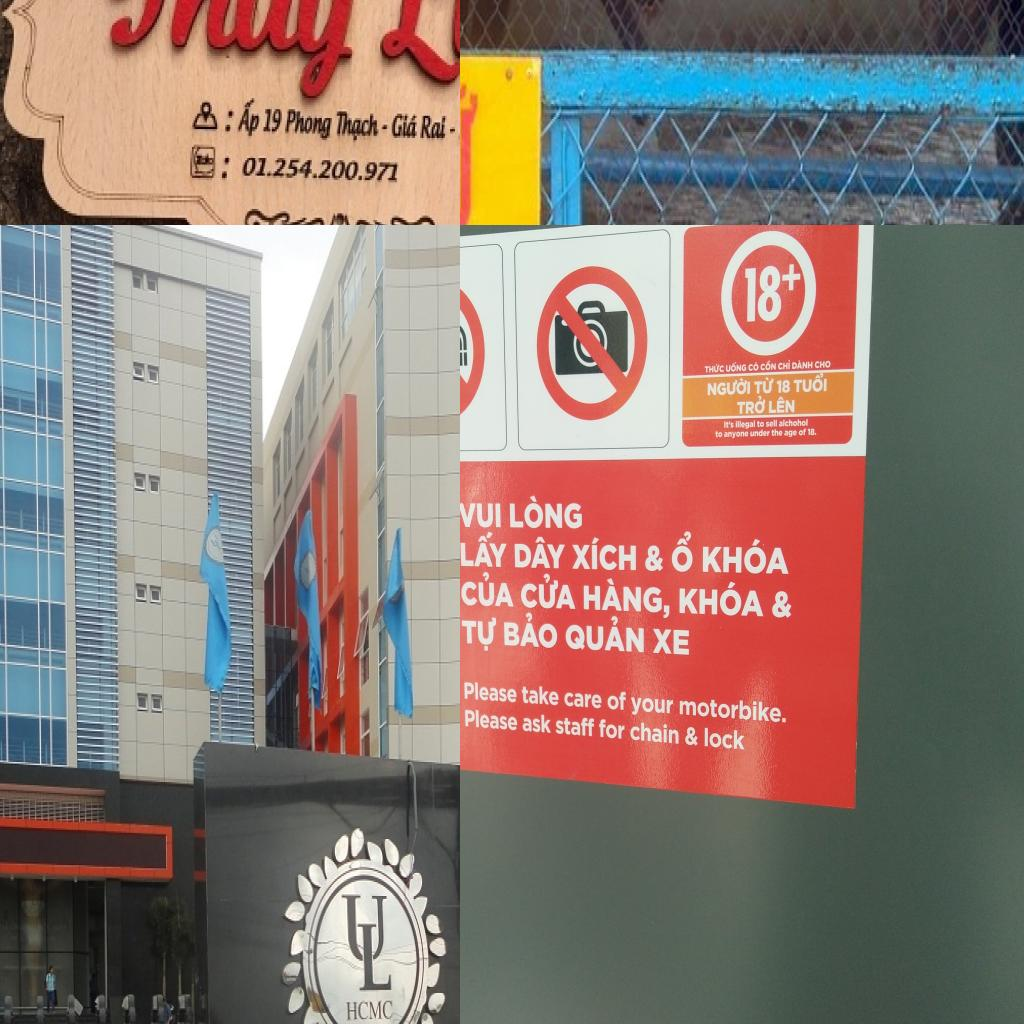text: (101, 0, 383, 104), (375, 0, 460, 111), (340, 893, 396, 994), (736, 260, 802, 332), (577, 575, 672, 622), (700, 535, 792, 579), (677, 580, 768, 621), (564, 613, 648, 655), (460, 73, 483, 225), (675, 696, 789, 726), (506, 494, 584, 532), (568, 534, 640, 573), (516, 574, 580, 613), (501, 612, 560, 654), (511, 532, 569, 574), (460, 571, 517, 611), (460, 529, 508, 572), (462, 676, 520, 707), (284, 107, 334, 142), (460, 611, 498, 656), (463, 706, 519, 736), (649, 623, 691, 660), (629, 719, 681, 747), (460, 498, 503, 531), (334, 112, 380, 142), (346, 999, 396, 1024), (628, 692, 676, 718), (235, 96, 264, 138), (669, 529, 693, 574), (520, 682, 560, 709), (554, 716, 597, 740), (704, 376, 752, 397), (563, 688, 604, 712), (595, 717, 627, 743), (793, 372, 829, 394), (392, 112, 420, 140), (420, 114, 448, 142), (520, 714, 552, 736), (736, 395, 766, 417), (767, 396, 797, 418), (262, 109, 283, 136), (607, 690, 628, 712), (753, 376, 775, 396), (704, 362, 725, 378), (778, 418, 809, 428), (724, 361, 747, 374), (791, 358, 814, 371), (776, 379, 791, 396), (759, 360, 777, 374), (735, 418, 756, 430), (723, 430, 749, 439), (814, 359, 833, 370), (778, 358, 792, 372), (764, 417, 778, 429), (750, 430, 770, 438), (748, 360, 760, 372), (723, 418, 734, 429), (784, 429, 797, 438), (771, 429, 783, 438), (448, 127, 457, 136), (756, 419, 764, 429), (807, 428, 817, 436), (798, 428, 807, 436), (715, 430, 723, 438), (380, 125, 389, 131)
